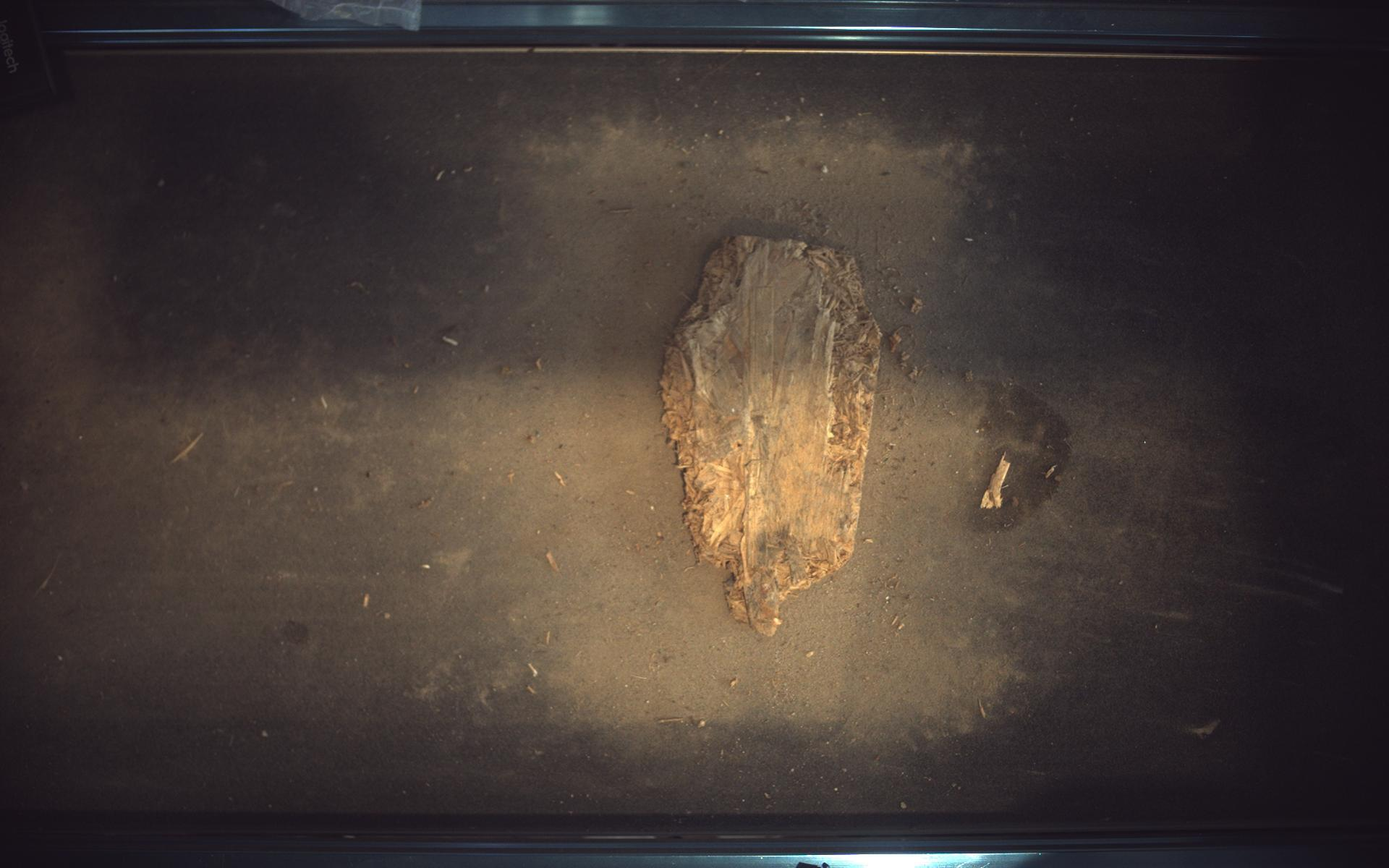wood: (661, 235, 883, 637)
